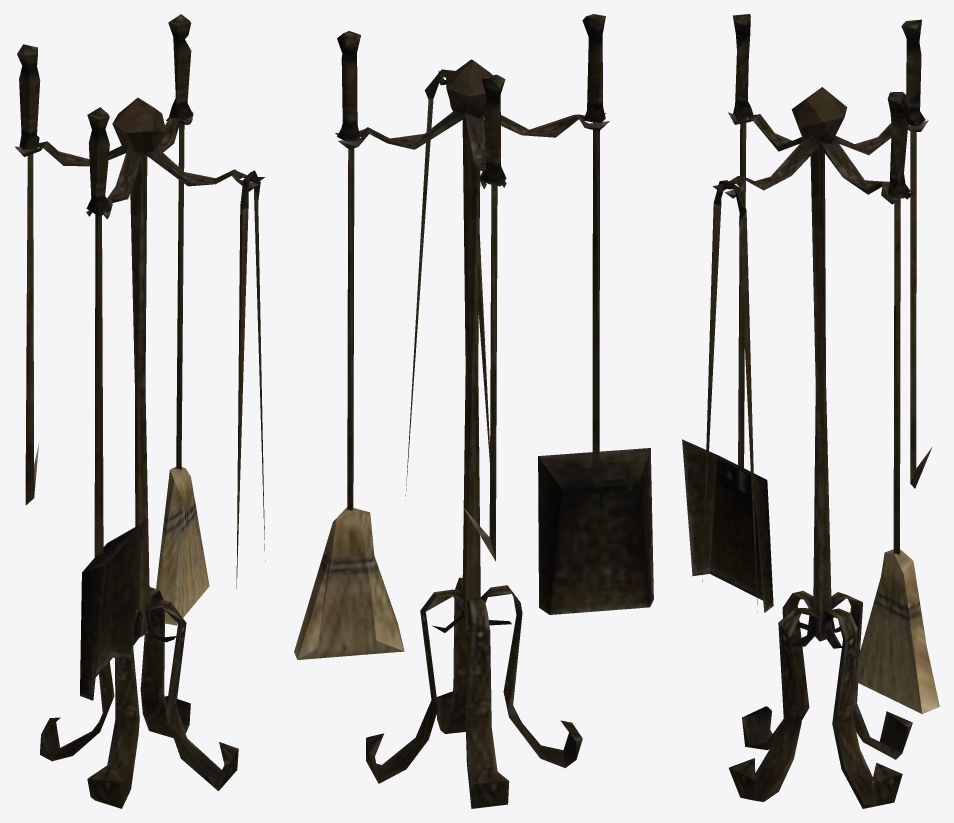
The model's file is broom.lod1.glb.
3 views of the same model, side by side, from view 1: azimuth 30°, elevation 25°; view 2: azimuth 150°, elevation 25°; view 3: azimuth 270°, elevation 25° (orthographic). The views are drawn at different scales.
Visible parts, largest first — view 1: broom; view 2: broom; view 3: broom.
Part boxes in pixels (x1,y1,x2,y2): broom: (15, 14, 265, 808); broom: (294, 14, 653, 808); broom: (682, 14, 939, 808).
Bounding box in the file's own units: 0.5482 × 1.59 × 0.5123.
1 material, 1 textured.
